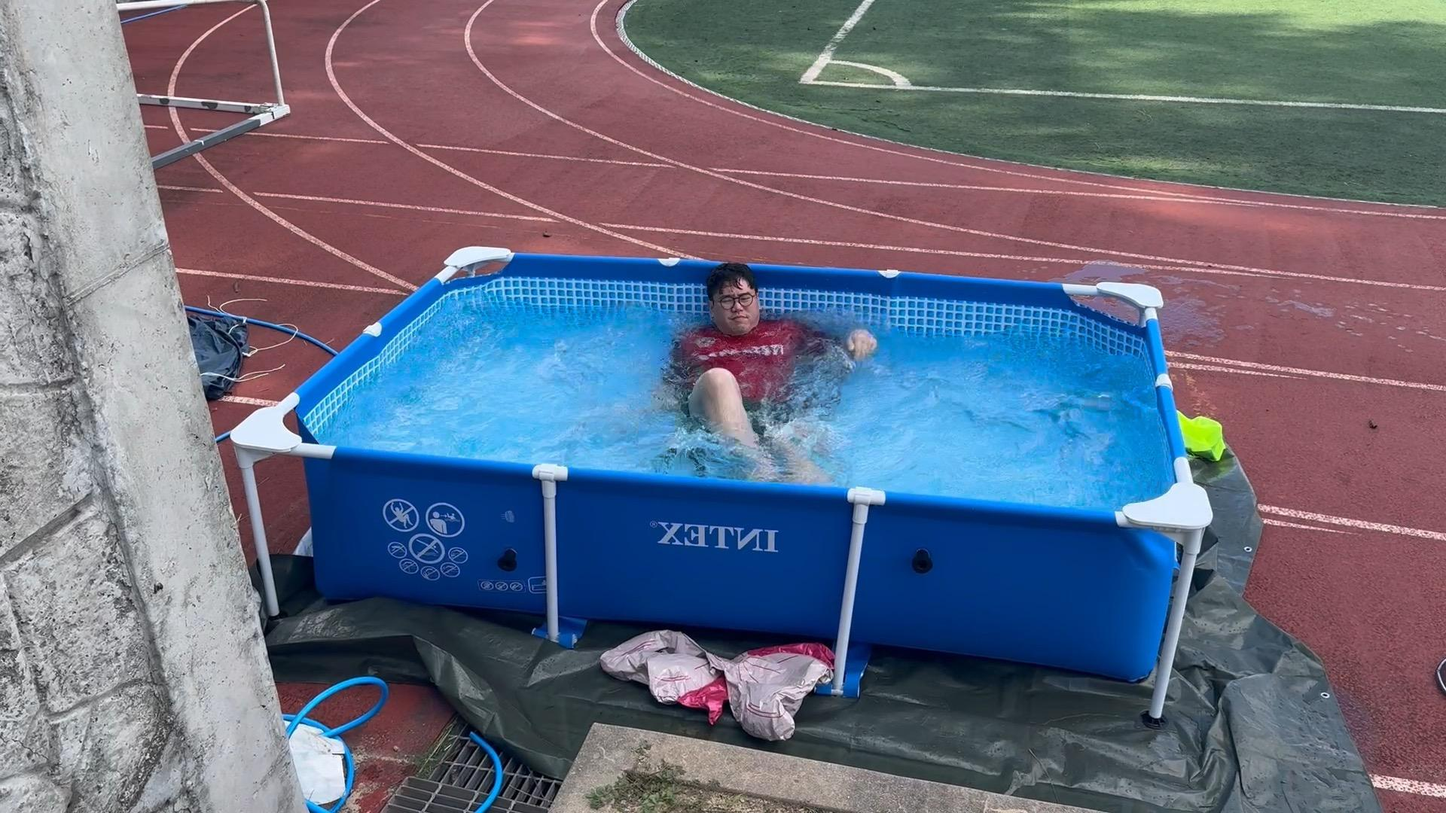Drowning: (650, 229, 900, 471)
